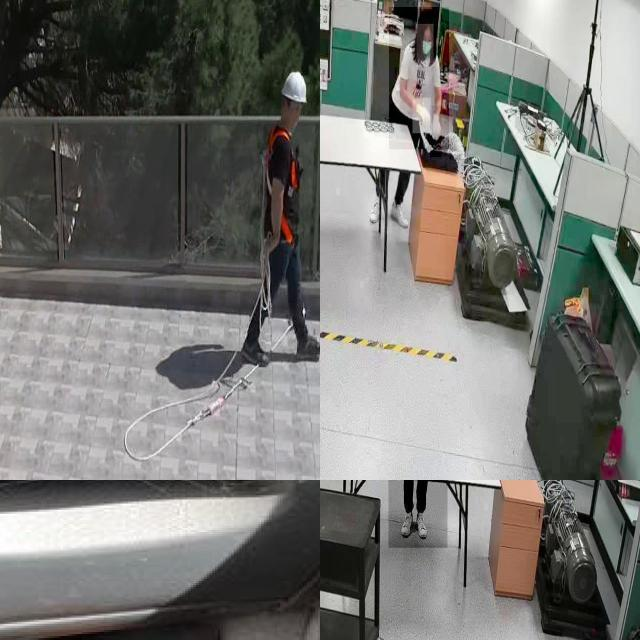Harness: (266, 126, 302, 244)
face_mask: (416, 22, 434, 67)
hand_glove: (412, 98, 432, 134), (430, 106, 442, 158)
head_nohelmet: (416, 9, 434, 25)
person: (389, 7, 449, 150), (388, 480, 447, 548)
shoes: (388, 196, 410, 230), (368, 192, 384, 225), (399, 510, 415, 537), (416, 510, 430, 540)
